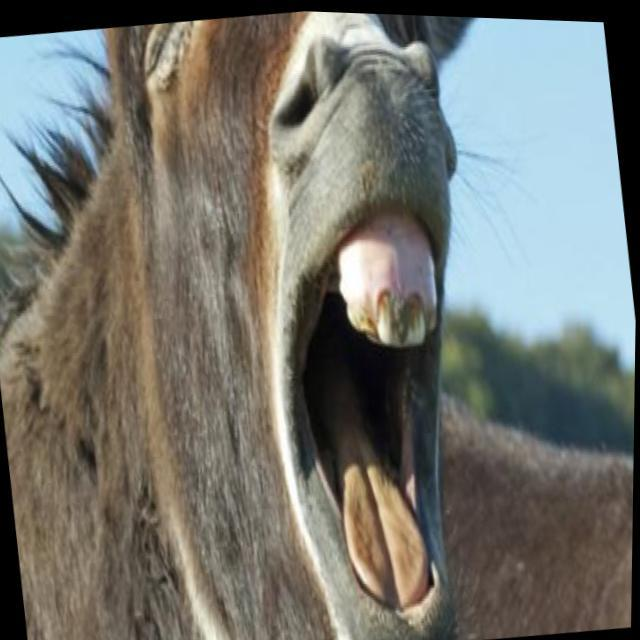Donkey: (0, 0, 565, 640), (406, 361, 636, 640)
